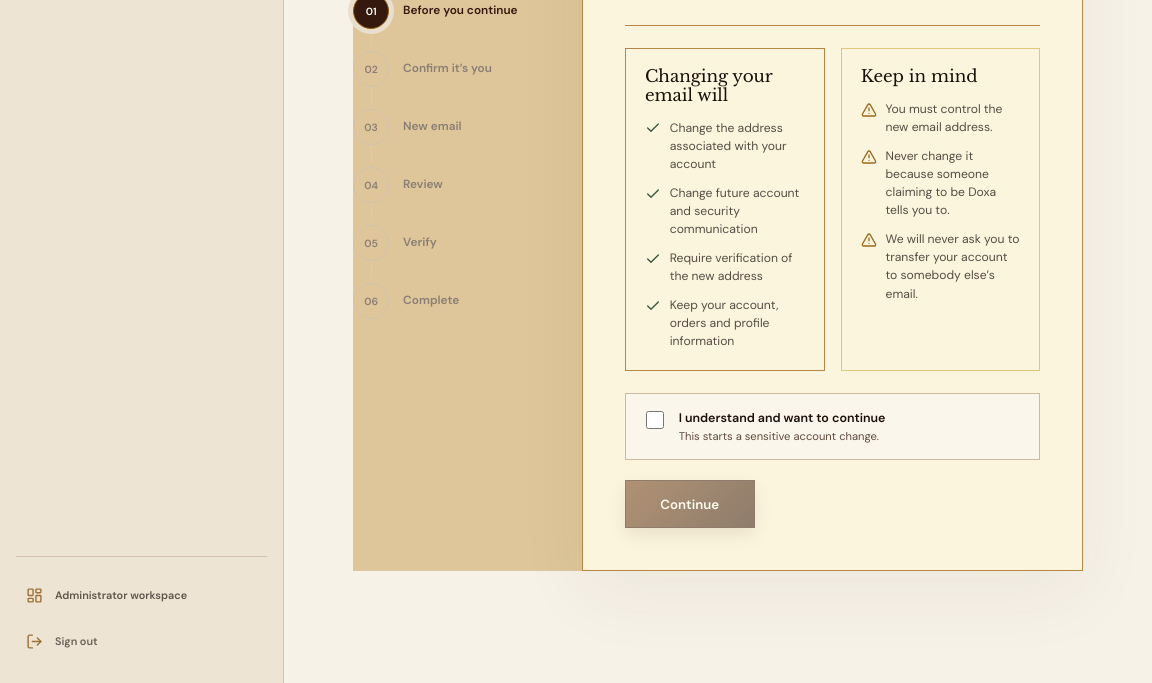
Test: account security centre › uses real Google reauthentication before accepting a new email
(page scrolled)
Click the checkbox at x=655, y=420, box 646,412 -> 664,430
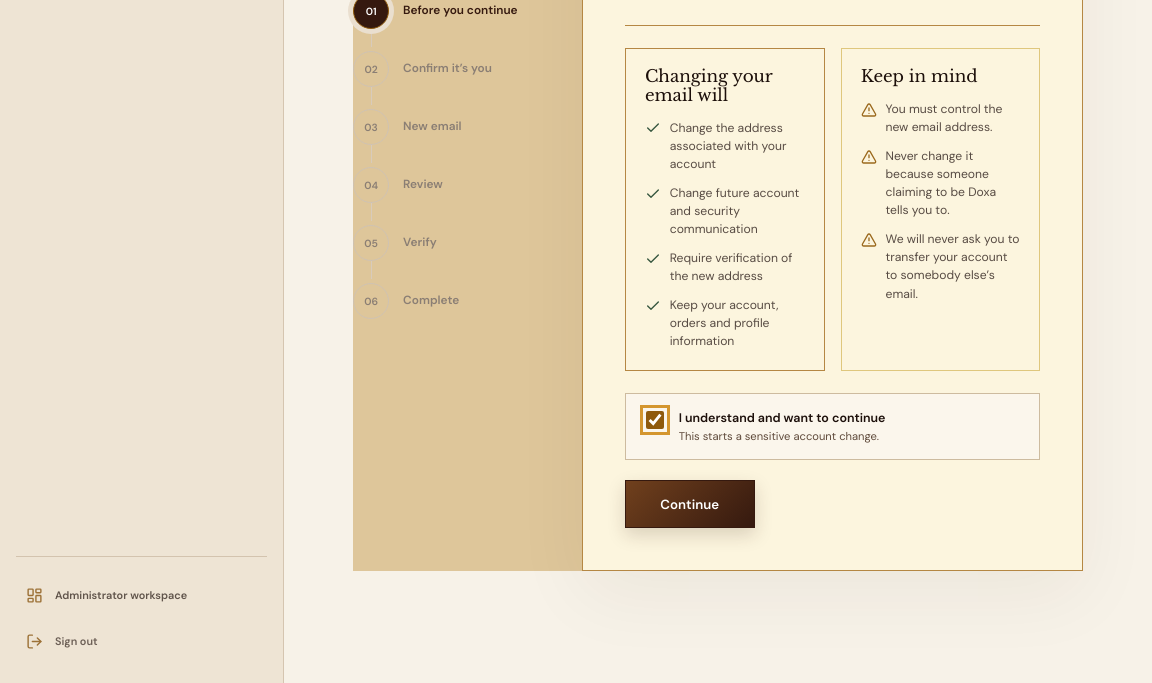
Click the button "Continue" at x=690, y=504, box 625,480 -> 755,528
(page scrolled)
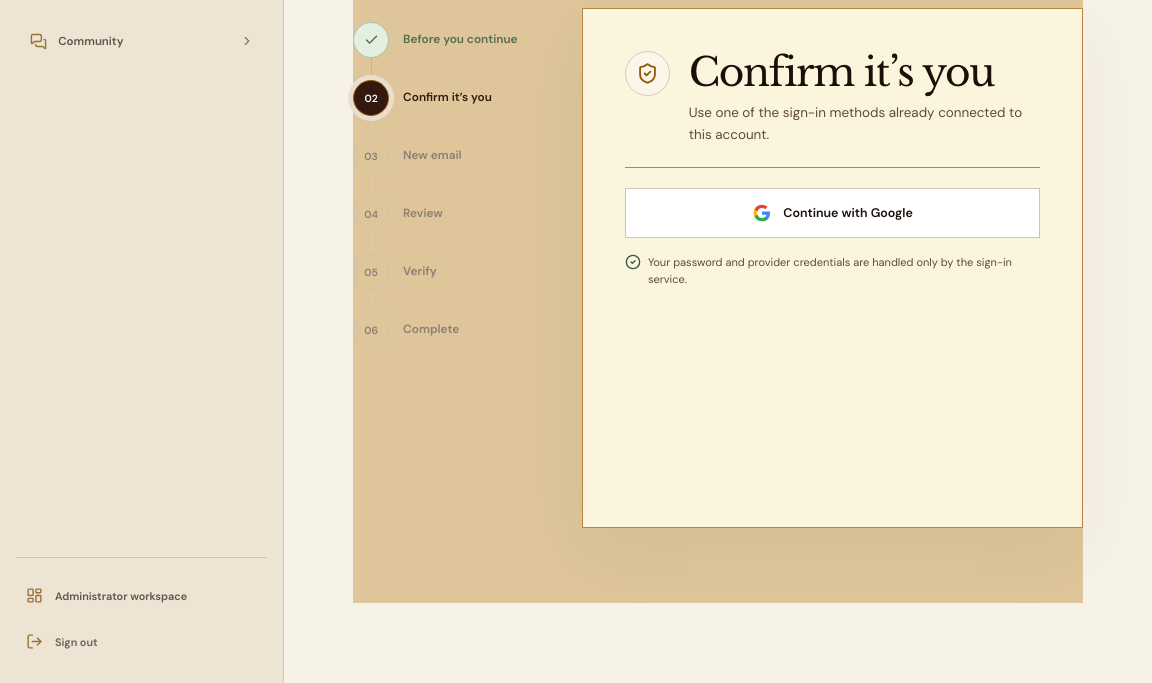
Click the button "Continue with Google" at x=832, y=213, box 625,188 -> 1040,238
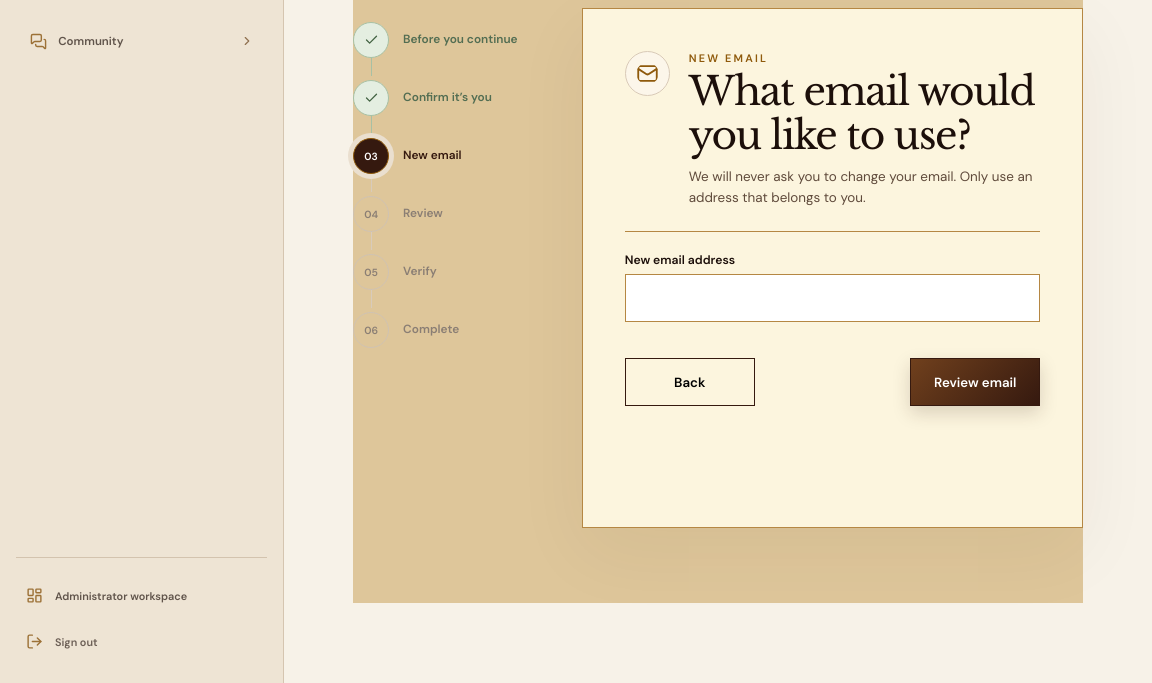
Now the heading "What email would you like to use?" is shown, box 689,70 -> 1040,158
